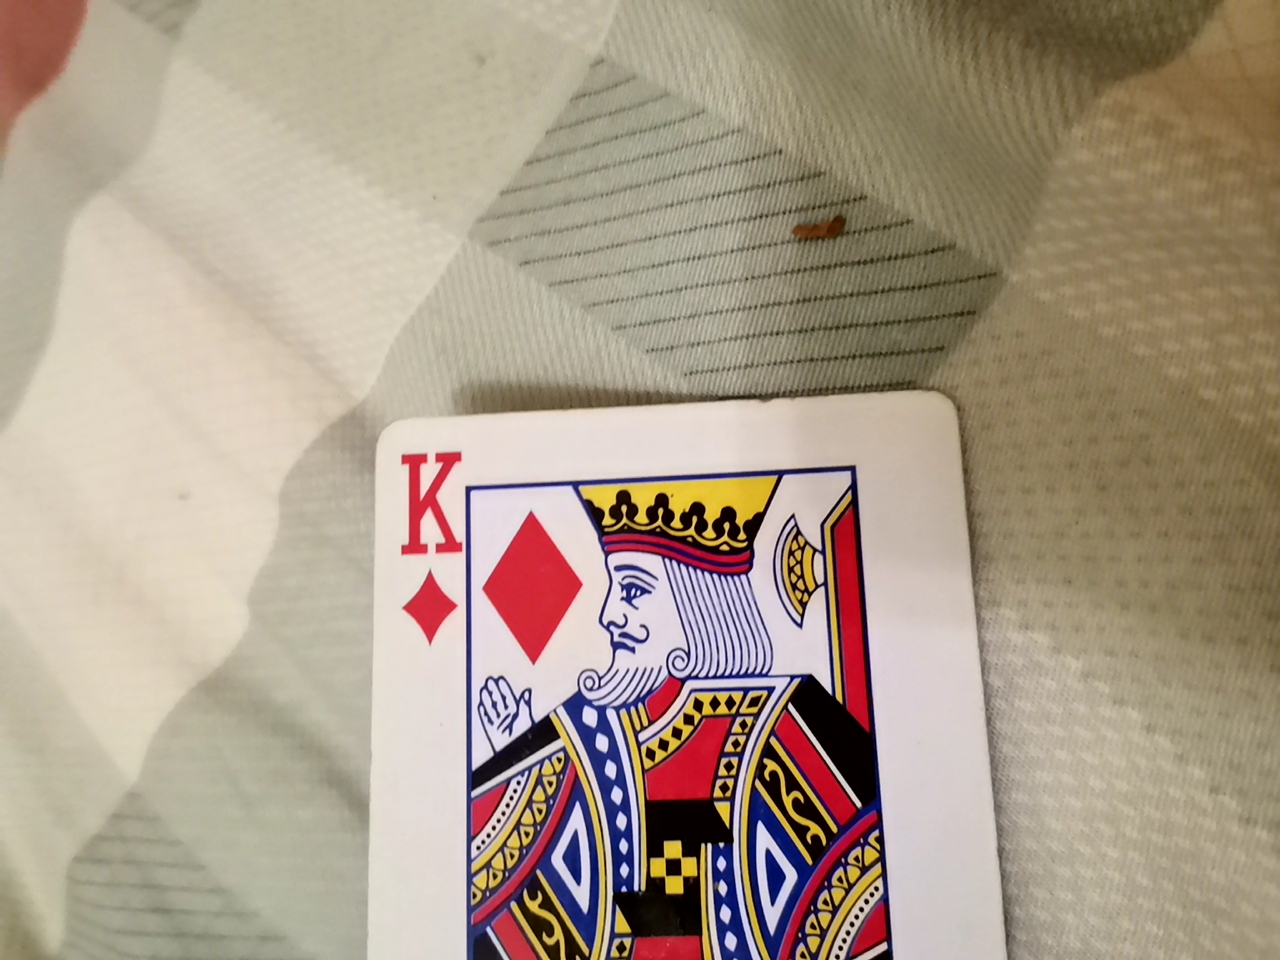fk k: (340, 409, 995, 959)
